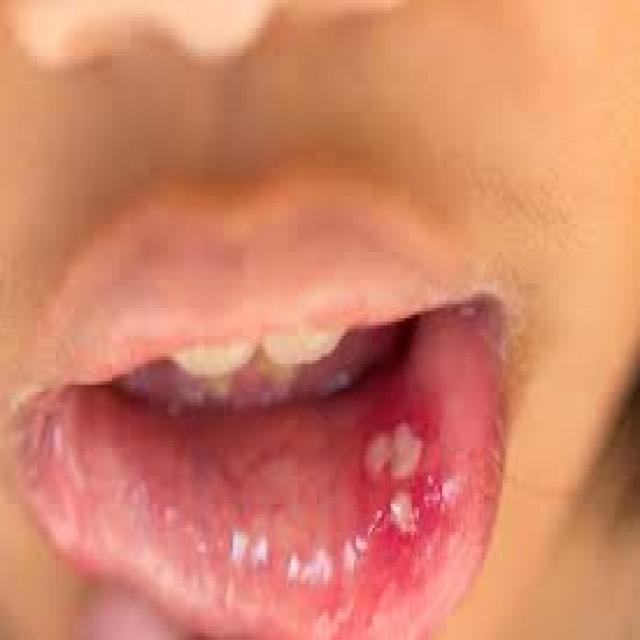processing_area: (30, 310, 509, 637)
ulcer-detection: (333, 348, 471, 578)
